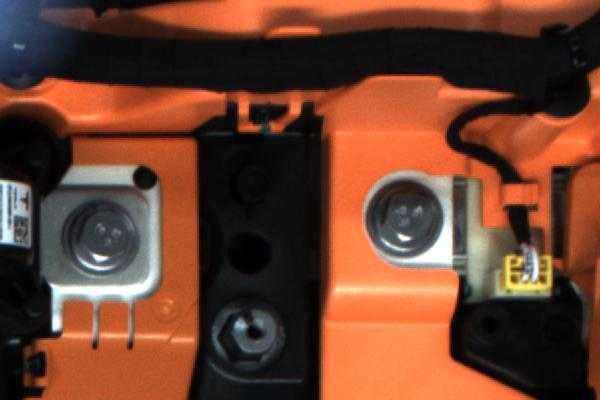nut_b: (357, 171, 450, 260), (55, 195, 141, 285)
